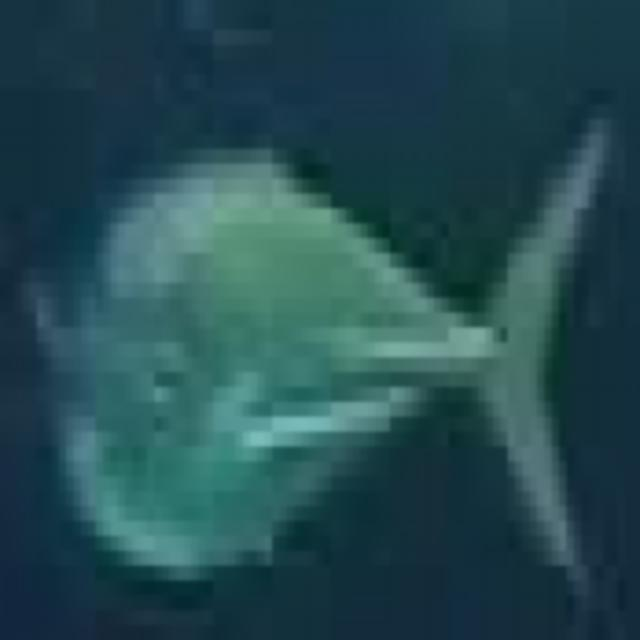fish: (7, 15, 640, 640)
